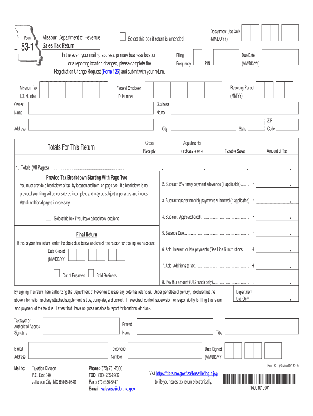checkbox: (52, 268, 61, 278), (44, 210, 52, 221), (87, 268, 95, 278), (118, 31, 126, 41)
textbox: (169, 100, 299, 115), (27, 100, 155, 115), (27, 117, 155, 132), (27, 340, 109, 360), (126, 340, 203, 361), (41, 316, 121, 336), (135, 316, 215, 336), (223, 316, 300, 336), (143, 80, 223, 99), (39, 80, 109, 99), (210, 153, 258, 173), (126, 153, 173, 173), (169, 153, 216, 173), (253, 153, 300, 173), (254, 170, 301, 190), (254, 185, 301, 205), (254, 201, 301, 221), (254, 217, 301, 237), (254, 234, 301, 254), (254, 251, 301, 271), (255, 266, 302, 286), (254, 283, 301, 303), (169, 117, 236, 131), (260, 47, 300, 67), (212, 47, 240, 67), (262, 340, 283, 360), (223, 340, 243, 360), (243, 340, 263, 360), (254, 80, 274, 99), (274, 80, 294, 99), (240, 23, 260, 42), (260, 23, 280, 42), (280, 23, 299, 42), (275, 117, 299, 131), (106, 247, 127, 262), (67, 247, 87, 262), (86, 247, 106, 262), (246, 117, 266, 131), (192, 48, 203, 66)
